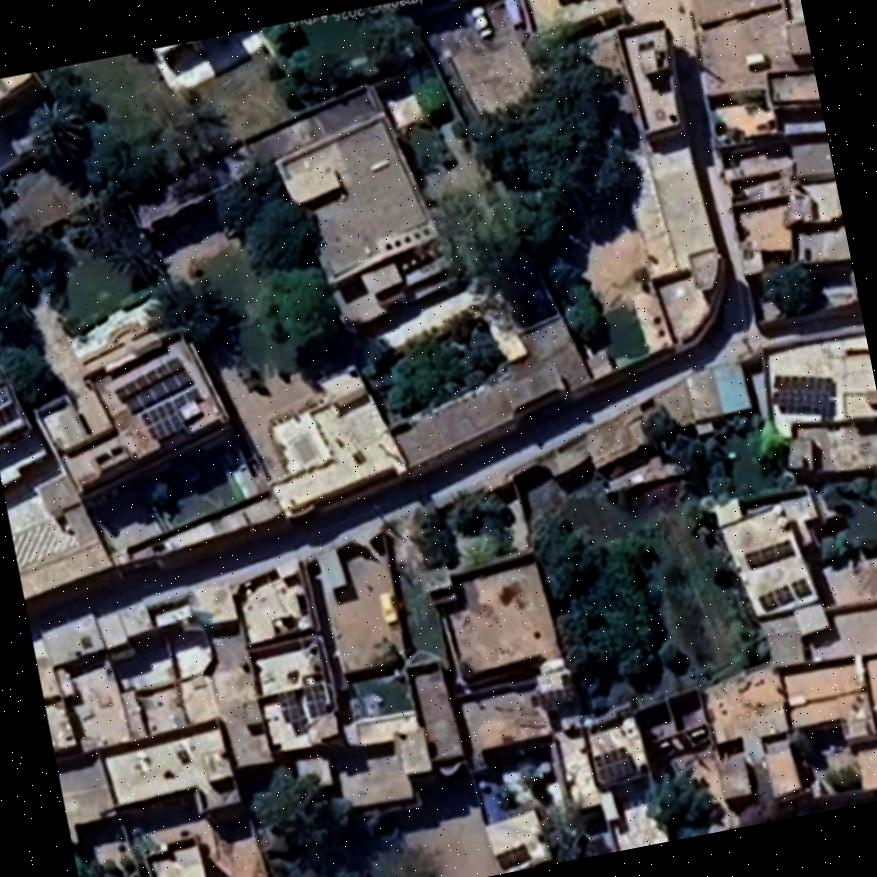Solarpanel: (125, 371, 190, 411), (138, 403, 184, 440), (594, 747, 633, 785), (743, 540, 794, 567), (772, 389, 828, 410), (774, 373, 830, 392), (276, 689, 301, 723), (303, 682, 327, 716)
